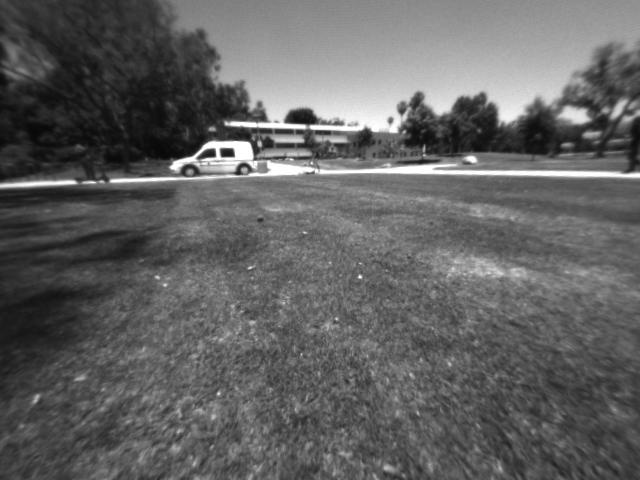dogtoy: (251, 209, 270, 224)
